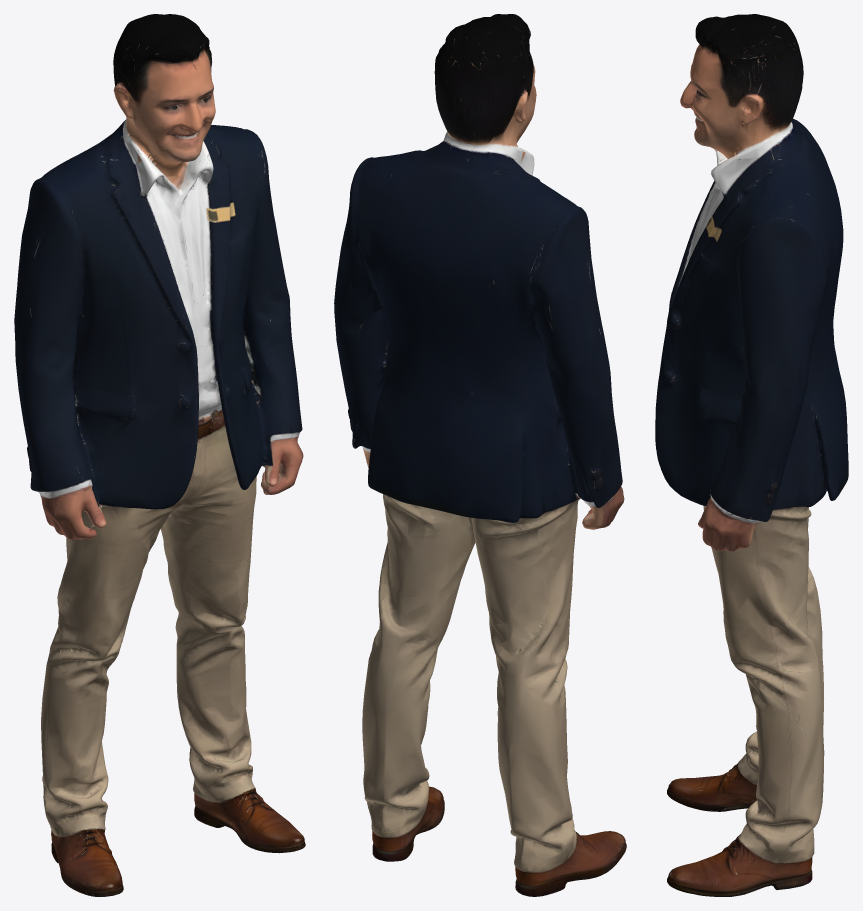
The model's file is bd33af10-e766-491e-b15d-604a7bbf3204.glb.
The picture shows the model from 3 angles, left to right: view 1: azimuth 30°, elevation 25°; view 2: azimuth 150°, elevation 25°; view 3: azimuth 270°, elevation 25°; orthographic projection.
Parts seen in each view (by area): view 1: Mesh_0; view 2: Mesh_0; view 3: Mesh_0.
Part boxes in pixels (<box>): Mesh_0: <box>14,14,305,896</box>; Mesh_0: <box>334,14,626,896</box>; Mesh_0: <box>655,14,848,896</box>.
Bounding box in the file's own units: 0.6381 × 1.91 × 0.4059.
1 material, 1 textured.
